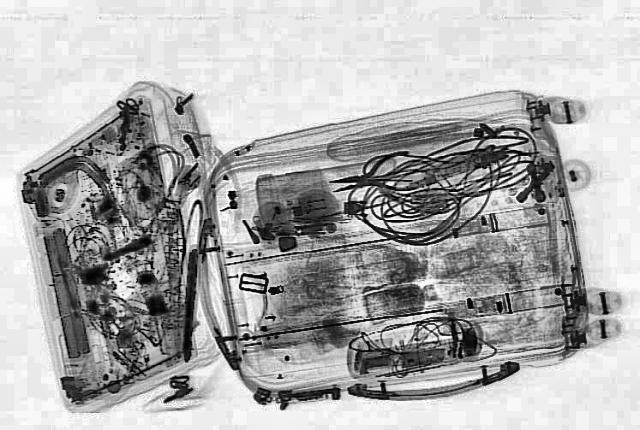Pliers: (318, 148, 427, 204)
